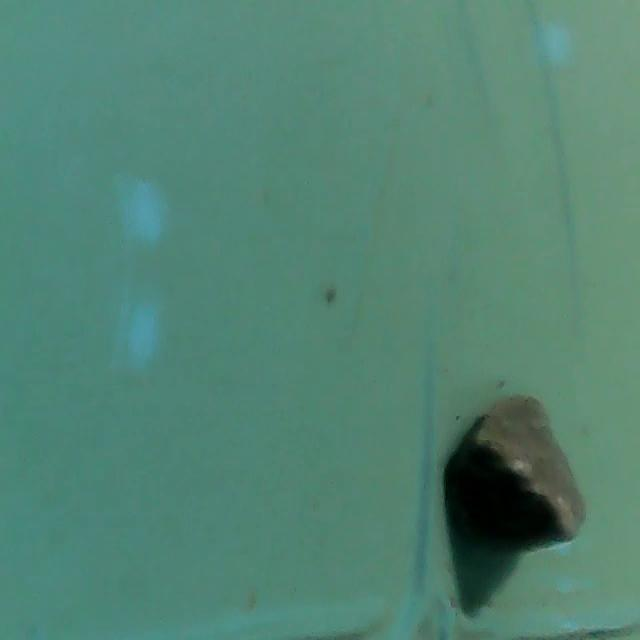rock: (452, 390, 600, 563)
